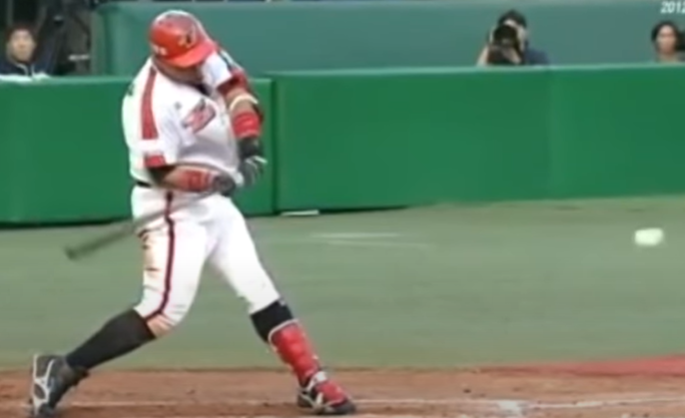ball: (633, 224, 665, 251)
